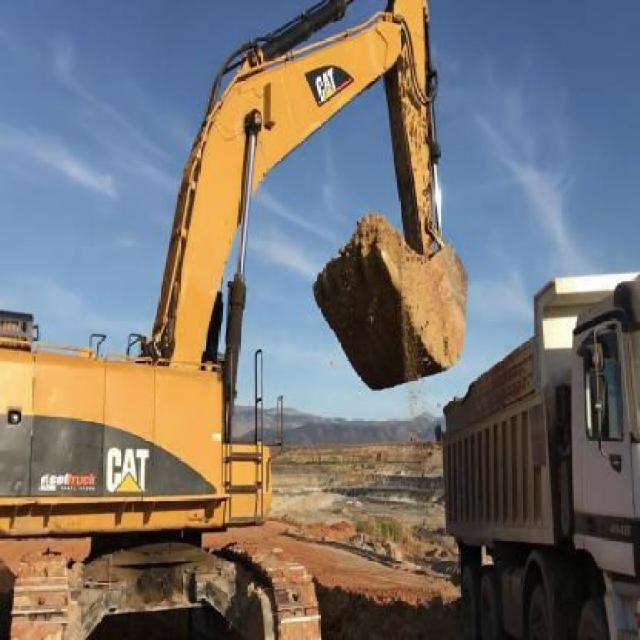Dump Truck: (438, 268, 639, 638)
Excavator: (0, 0, 471, 638)
